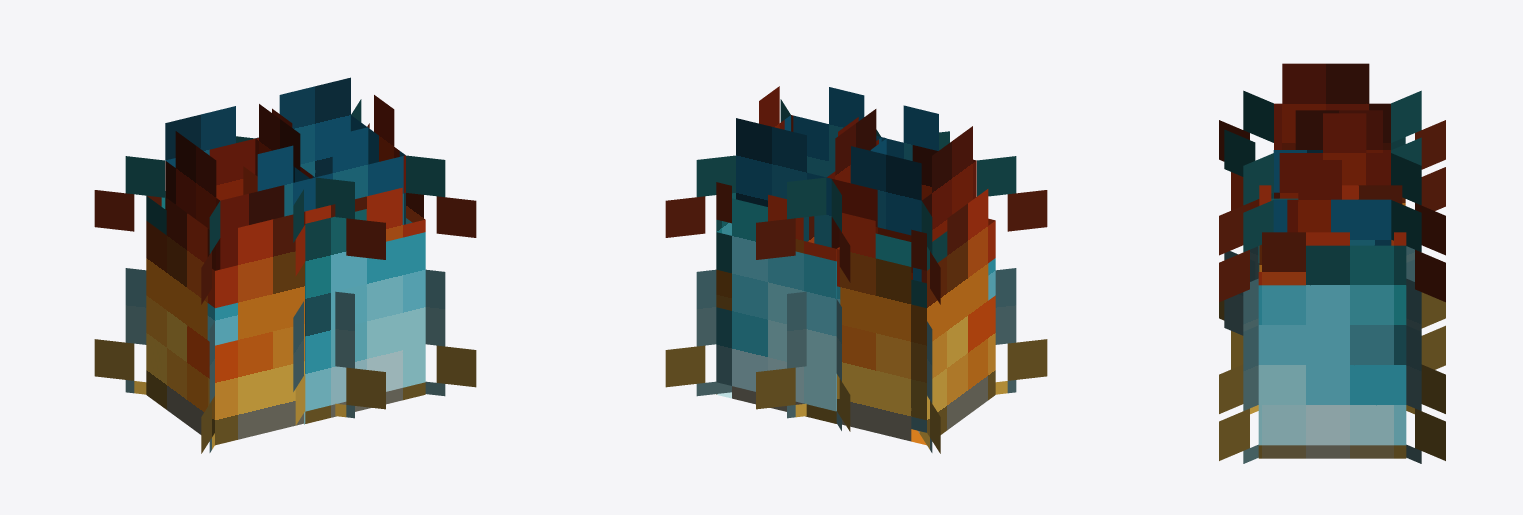
Rendered from sl_mixed_fire_feet.glb.
The picture shows the model from 3 angles, left to right: view 1: azimuth 30°, elevation 25°; view 2: azimuth 150°, elevation 25°; view 3: azimuth 270°, elevation 25°; orthographic projection. The views are drawn at different scales.
Visible parts, largest first — view 1: bb_mixed_fire_feet; view 2: bb_mixed_fire_feet; view 3: bb_mixed_fire_feet.
Boxes of the visible parts, x1,y1,x2,y2 form: bb_mixed_fire_feet: (94,77,476,453); bb_mixed_fire_feet: (665,86,1047,453); bb_mixed_fire_feet: (1219,63,1445,463).
Size of the model in its own units: 0.9919 by 0.7525 by 0.7544.
Materials: 1 (1 with a texture image).
